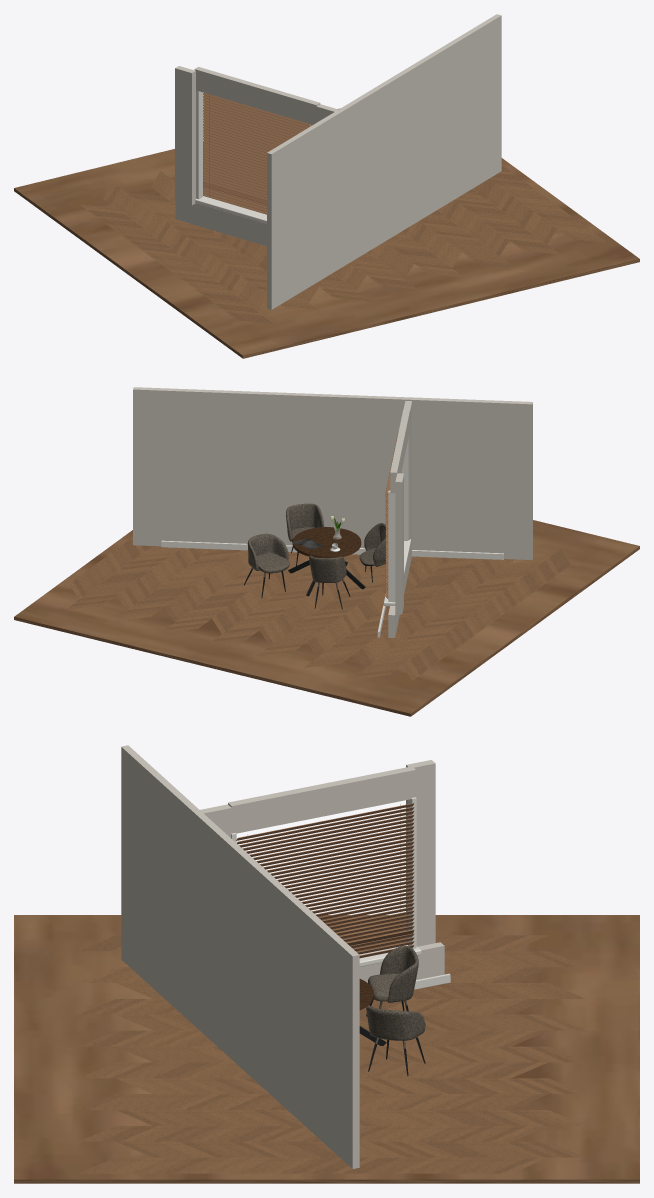
The model's file is viga.glb.
3 views of the same model, one above another, from view 1: azimuth 30°, elevation 25°; view 2: azimuth 150°, elevation 25°; view 3: azimuth 270°, elevation 25° (orthographic). The views are drawn at different scales.
Visible parts, largest first — view 1: back plaster, floor foundation, window wall above, window wall front pier, window wall below, window jamb.001, window sill; view 2: back plaster, floor foundation, walnut slab, brown_upholstered_chair_mesh, back skirting, window wall front pier, patterned_armchair_mesh, patterned_dining_chair_mesh, taupe_dining_chair_mesh, window jamb.001, window wall above, window wall rear pier (+2 smaller); view 3: floor foundation, back plaster, window wall above, window wall front pier, patterned_armchair_mesh, brown_upholstered_chair_mesh, window wall below, window jamb.001, horizontal blind.037, horizontal blind.036.
Boxes of the visible parts, bbox=[...] form: back plaster: bbox=[267, 14, 501, 309]; floor foundation: bbox=[14, 108, 639, 358]; window wall above: bbox=[194, 67, 320, 124]; window wall front pier: bbox=[175, 66, 195, 205]; window wall below: bbox=[175, 201, 266, 246]; window jamb.001: bbox=[196, 90, 202, 199]; window sill: bbox=[195, 196, 266, 223]; back plaster: bbox=[133, 387, 532, 559]; floor foundation: bbox=[14, 520, 639, 716]; walnut slab: bbox=[292, 527, 361, 558]; brown_upholstered_chair_mesh: bbox=[244, 533, 289, 598]; back skirting: bbox=[161, 540, 503, 559]; window wall front pier: bbox=[395, 473, 403, 614]; patterned_armchair_mesh: bbox=[309, 555, 350, 609]; patterned_dining_chair_mesh: bbox=[286, 503, 324, 565]; taupe_dining_chair_mesh: bbox=[359, 523, 385, 582]; window jamb.001: bbox=[388, 490, 395, 602]; window wall above: bbox=[390, 409, 409, 493]; window wall rear pier: bbox=[403, 401, 411, 539]; floor foundation: bbox=[14, 915, 639, 1183]; back plaster: bbox=[121, 745, 359, 1168]; window wall above: bbox=[228, 766, 416, 833]; window wall front pier: bbox=[406, 760, 435, 946]; patterned_armchair_mesh: bbox=[366, 946, 418, 1016]; brown_upholstered_chair_mesh: bbox=[366, 1005, 425, 1076]; window wall below: bbox=[359, 942, 444, 982]; window jamb.001: bbox=[408, 797, 416, 948]; horizontal blind.037: bbox=[236, 803, 414, 840]; horizontal blind.036: bbox=[237, 807, 414, 844].
Size of the model in its own units: 8 by 3.07 by 8.
635 materials, 627 textured.
